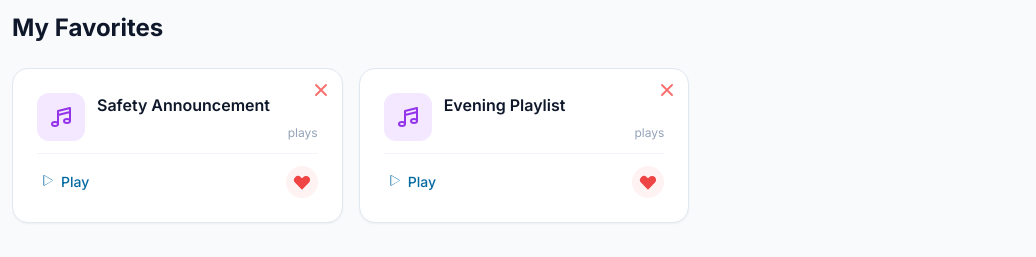
Test: FavoritesView › remove favorite › shows error message when remove fails
The image size is (1036, 257).
What coordinates should you click on to do the following:
click the 1st button titled "Remove favorite"
I would click on:
 (321, 90)
Its box is [311,80,331,100].
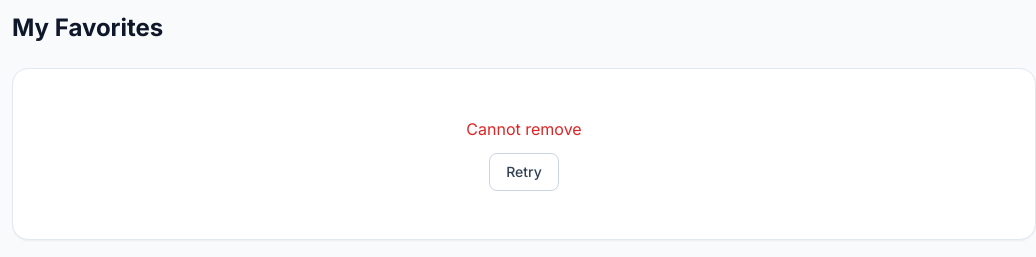
Now the text "Cannot remove" is shown, box [466,119,582,139]
